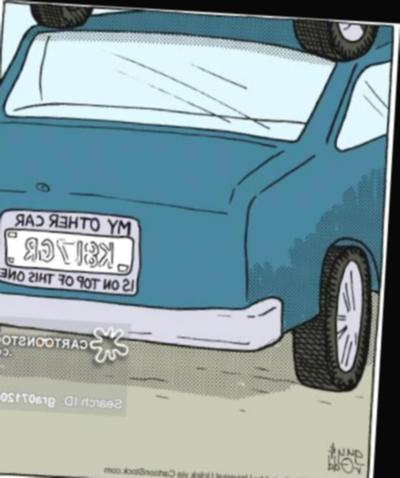License_Plate: (13, 230, 133, 272)
